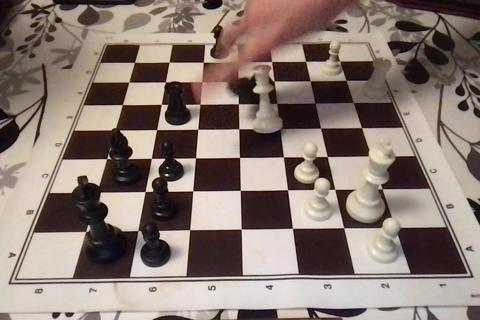xcorner: (79, 227, 92, 240), (184, 226, 197, 239), (236, 225, 249, 238), (391, 223, 404, 236), (235, 186, 248, 199), (378, 184, 391, 197), (234, 152, 247, 165), (108, 124, 121, 137), (150, 124, 163, 137), (233, 123, 246, 136), (316, 122, 329, 135), (271, 97, 284, 110), (158, 76, 171, 89), (341, 74, 354, 87), (127, 56, 140, 69), (162, 56, 175, 69), (231, 55, 244, 68), (334, 54, 347, 67), (288, 225, 301, 237), (139, 187, 151, 200), (187, 187, 200, 199), (283, 185, 295, 198), (100, 154, 113, 166), (145, 153, 157, 166), (189, 153, 202, 165), (278, 152, 291, 164), (323, 151, 335, 164), (357, 122, 370, 134), (115, 99, 128, 111), (155, 98, 167, 111), (194, 98, 206, 111), (232, 98, 245, 110), (310, 97, 323, 109), (349, 96, 361, 109), (122, 76, 134, 89), (195, 76, 208, 88), (232, 75, 244, 88), (268, 75, 281, 87), (305, 74, 317, 87), (266, 55, 278, 68), (300, 55, 313, 67), (132, 227, 144, 239), (340, 224, 352, 236), (91, 188, 103, 200), (331, 185, 343, 197), (367, 151, 379, 163), (192, 124, 204, 136), (275, 123, 287, 135), (197, 56, 209, 68)
